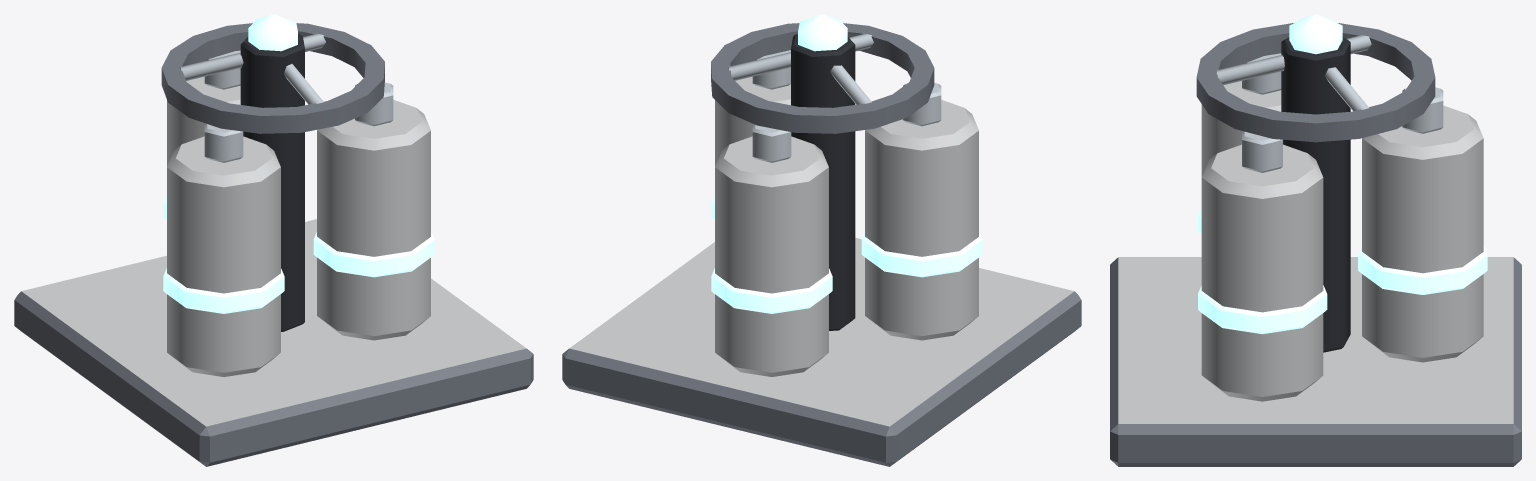
File: R4X_ChargeRegenerator_LOD1.fbx
3 views of the same model, side by side, from view 1: azimuth 30°, elevation 25°; view 2: azimuth 150°, elevation 25°; view 3: azimuth 270°, elevation 25° (orthographic). The views are drawn at different scales.
Visible parts, largest first — view 1: R4X_ChargeRegenerator_LOD1; view 2: R4X_ChargeRegenerator_LOD1; view 3: R4X_ChargeRegenerator_LOD1.
Part boxes in pixels (left/top/right/bottom): R4X_ChargeRegenerator_LOD1: left=14, top=14, right=533, bottom=466; R4X_ChargeRegenerator_LOD1: left=562, top=14, right=1081, bottom=466; R4X_ChargeRegenerator_LOD1: left=1110, top=14, right=1521, bottom=466.
Size of the model in its own units: 0.52 by 0.515 by 0.52.
